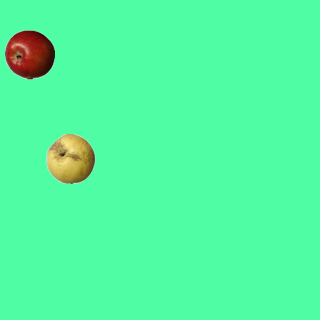Apple Braeburn: (4, 29, 54, 79)
Apple Golden 1: (45, 133, 95, 183)
